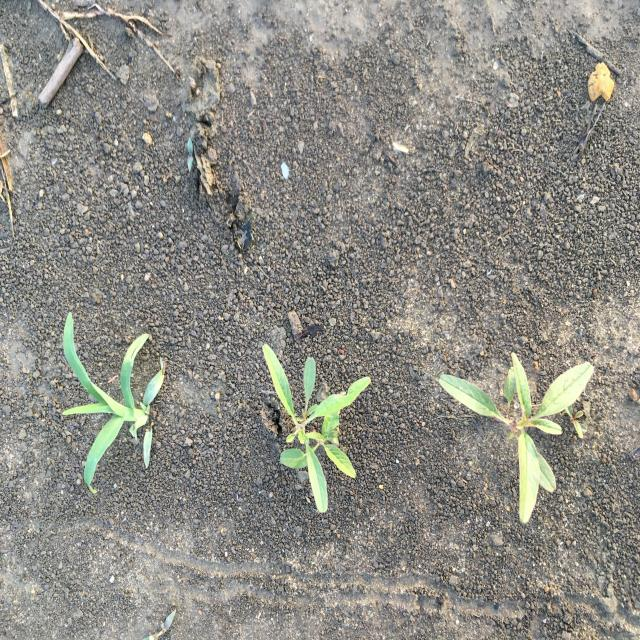Goosegrass: (62, 310, 166, 495)
Waterhemp: (438, 351, 595, 526), (261, 343, 372, 515)
